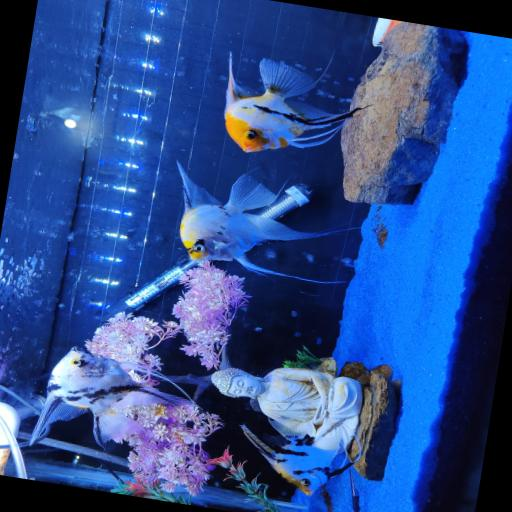Fish: (177, 162, 355, 276), (31, 347, 192, 447), (225, 53, 364, 152), (242, 421, 350, 496)
